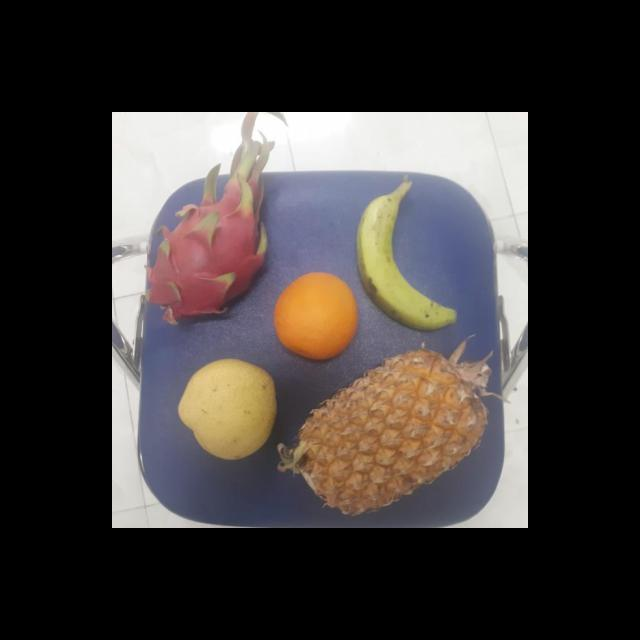banana: (356, 188, 460, 329)
orange: (272, 272, 358, 360)
pear: (175, 359, 282, 462)
pineapple: (290, 352, 500, 516)
pitaya: (147, 185, 278, 328)
